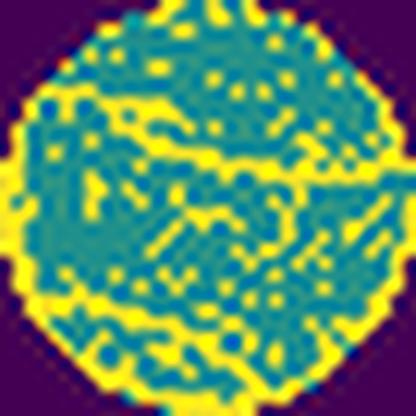Scratch: (43, 81, 405, 277), (36, 264, 274, 397)
